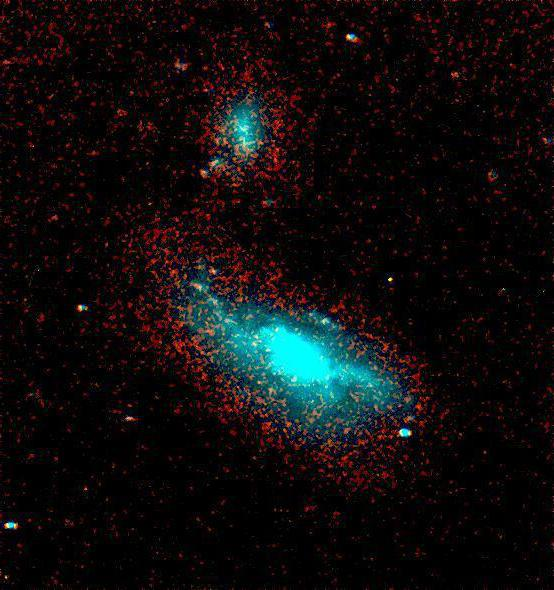star: (250, 372, 280, 402)
